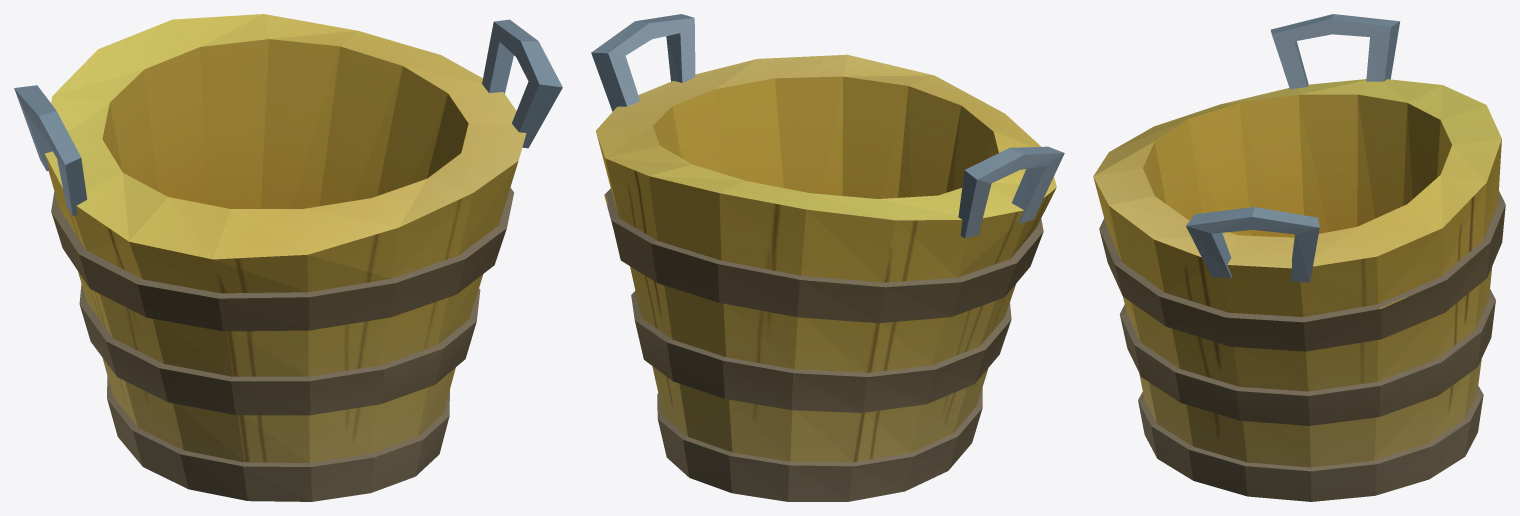
File: saabucket2.dae
3 views of the same model, side by side, from view 1: azimuth 30°, elevation 25°; view 2: azimuth 150°, elevation 25°; view 3: azimuth 270°, elevation 25° (orthographic). The views are drawn at different scales.
Parts seen in each view (by area): view 1: Bucket; view 2: Bucket; view 3: Bucket.
Boxes of the visible parts, <box> form: Bucket: <box>14,14,562,501</box>; Bucket: <box>591,14,1064,501</box>; Bucket: <box>1093,14,1505,501</box>.
Size of the model in its own units: 1.75 by 1.3 by 1.47.
